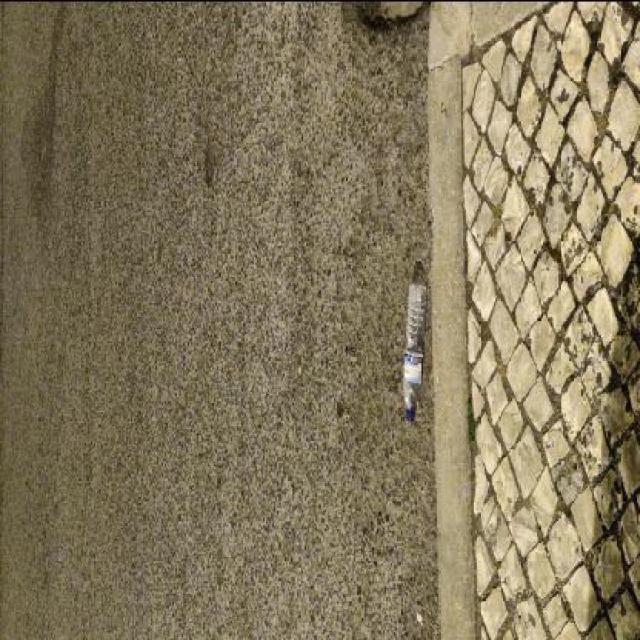plastic: (403, 281, 428, 419)
